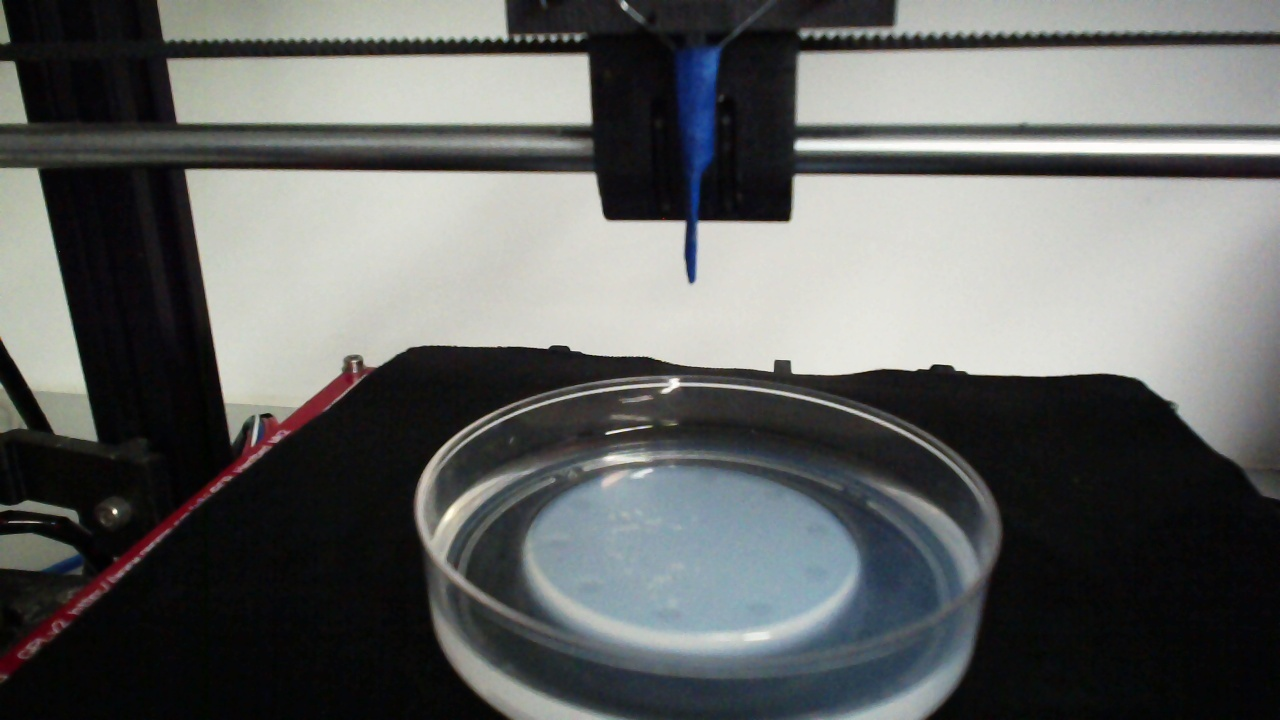groove: (803, 562, 834, 584), (574, 577, 605, 597), (654, 606, 681, 624), (544, 534, 571, 551), (748, 600, 773, 618), (568, 497, 594, 514), (805, 522, 832, 538), (761, 486, 787, 502)
needle: (679, 48, 723, 281)
